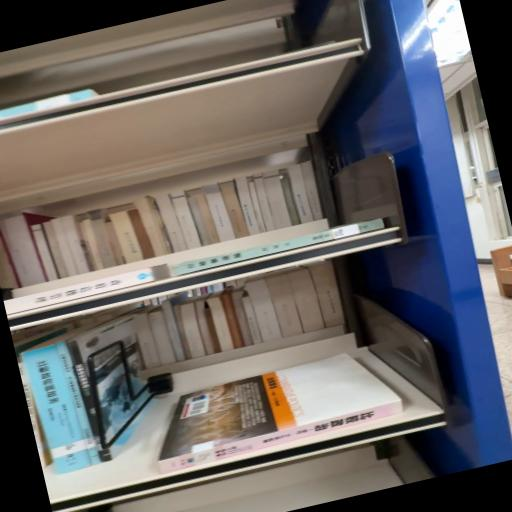flat: (159, 355, 404, 474), (171, 220, 386, 277)
